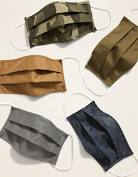cloth_mask: (1, 53, 74, 95)
